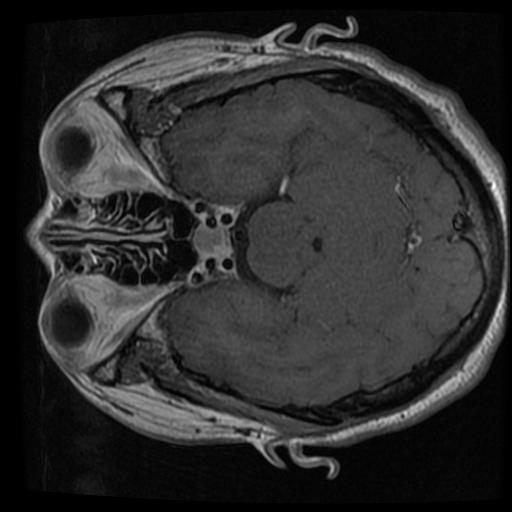pituitary tumour: (193, 226, 232, 258)
